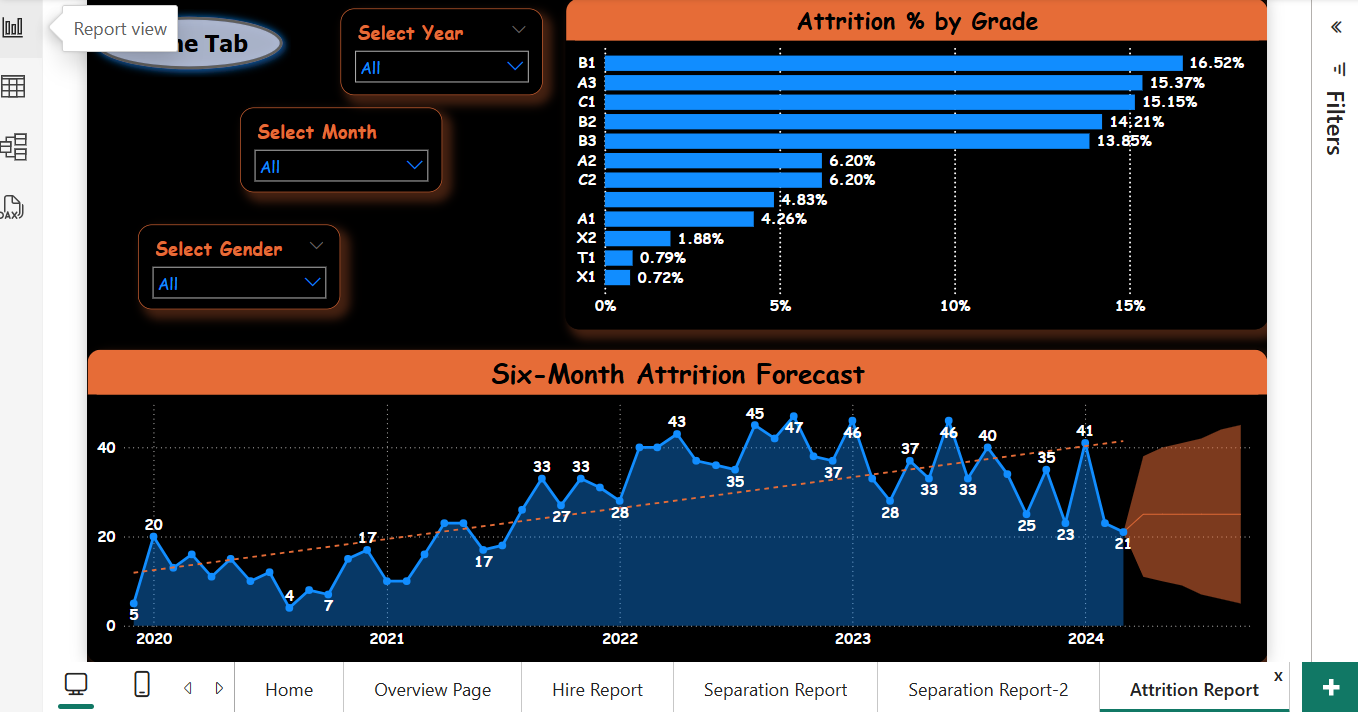

The page's visual inventory and layout, read from the dashboard file:
{"tool":"powerbi","page":{"name":"Attrition Report","canvas":[1280,720],"ordinal":5},"visuals":[{"type":"clusteredBarChart","title":"Attrition % by Grade","fields":{"Category":["Hiretermination.Grade"],"Y":["Divide(CountNonNull(Hiretermination.Employee Status), ScopedEval(CountNonNull(Hiretermination.Employee Status), []))"]},"box":[518.5,0,761.9,359.5],"z":0},{"type":"lineChart","title":"Six-Month Attrition Forecast","fields":{"Category":["Hiretermination.Termination Date.Variation.Date Hierarchy.Year","Hiretermination.Termination Date.Variation.Date Hierarchy.Month"],"Y":["CountNonNull(Hiretermination.Employee Status)"]},"box":[0,380.2,1280.4,340.4],"z":1000},{"type":"slicer","fields":{"Values":["Hiretermination.Termination Date.Variation.Date Hierarchy.Year"]},"box":[275.2,11.1,219.5,93.8],"z":2000},{"type":"slicer","fields":{"Values":["Hiretermination.Termination Date.Variation.Date Hierarchy.Month"]},"box":[165.4,119.3,219.5,92.3],"z":3000},{"type":"slicer","fields":{"Values":["Hiretermination.Gender"]},"box":[55.7,245,219.5,92.3],"z":4000},{"type":"actionButton","box":[0,11.1,221.1,74.8],"z":5000}]}

Visuals, with their boxes on the page's 1280x720 design canvas (x1, y1, x2, y2). These are canvas units, not pixel positions in the 1358x712 screenshot, which may show the page scaled, cropped or inside an application window:
"Attrition % by Grade" clusteredBarChart: bbox=[518, 0, 1280, 360]
"Six-Month Attrition Forecast" lineChart: bbox=[0, 380, 1280, 721]
slicer - Hiretermination.Termination Date.Variation.Date Hierarchy.Year: bbox=[275, 11, 495, 105]
slicer - Hiretermination.Termination Date.Variation.Date Hierarchy.Month: bbox=[165, 119, 385, 212]
slicer - Hiretermination.Gender: bbox=[56, 245, 275, 337]
actionButton: bbox=[0, 11, 221, 86]
